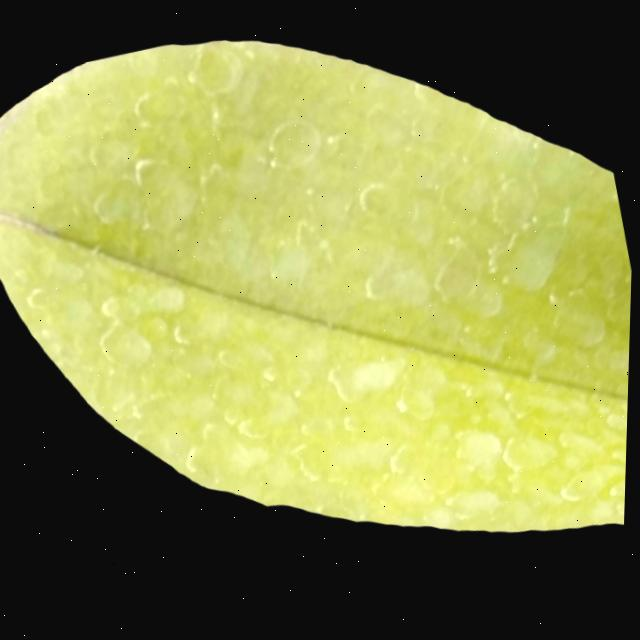mite: (486, 203, 586, 303), (327, 345, 415, 410), (263, 113, 329, 177), (98, 314, 160, 378), (453, 422, 512, 484), (266, 240, 319, 292), (91, 187, 132, 230), (355, 178, 395, 221), (131, 152, 163, 187)
